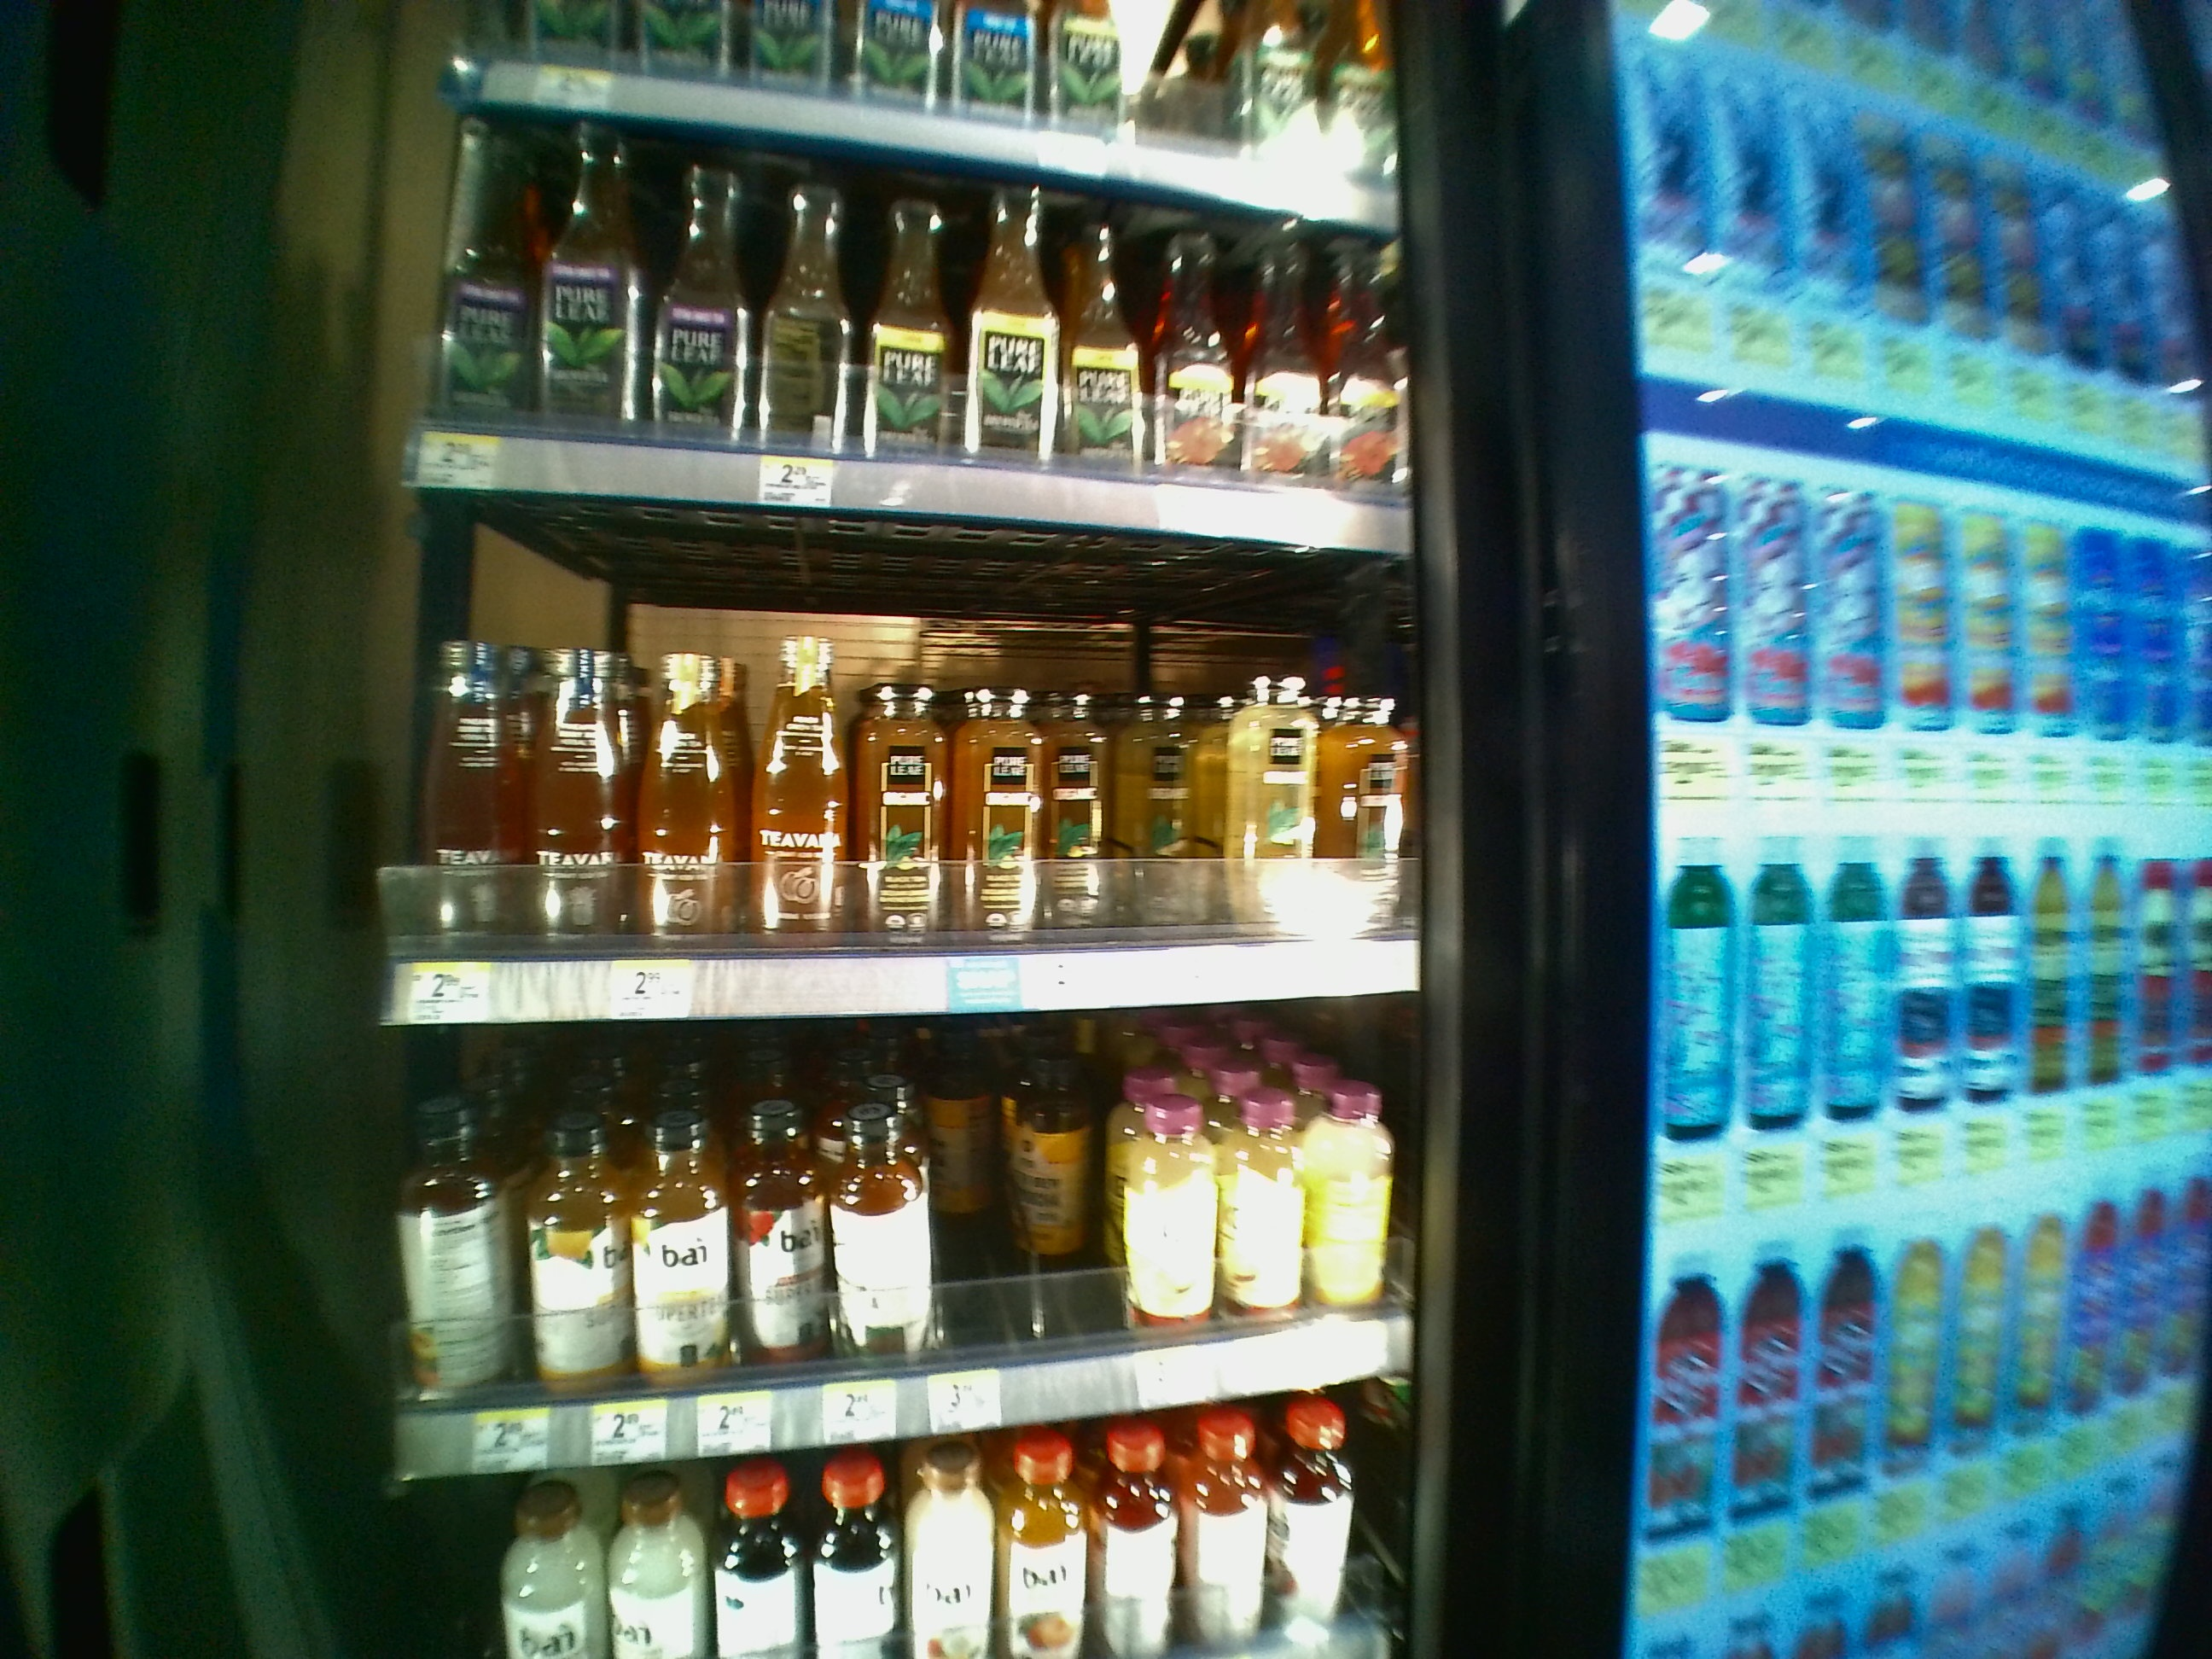shelf: (380, 518, 1418, 1025), (376, 1049, 1420, 1464), (406, 106, 1399, 493)
